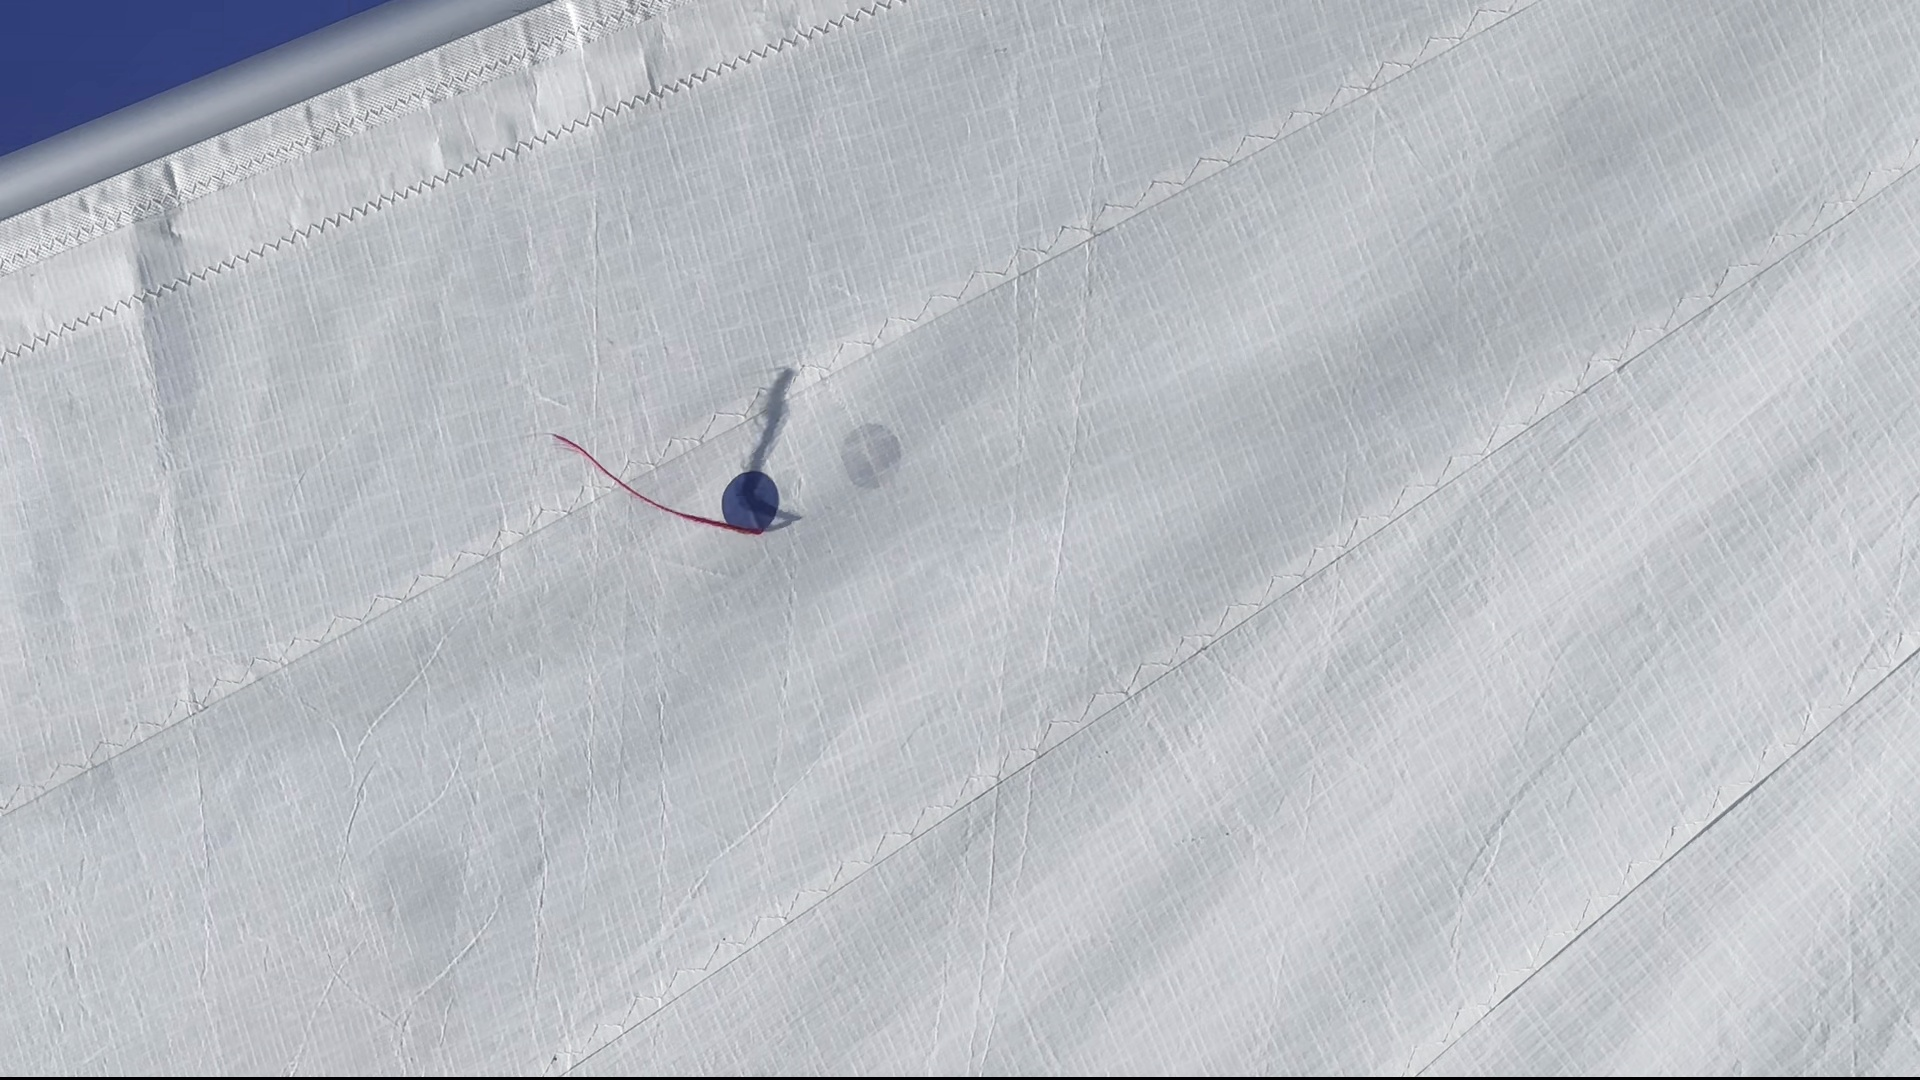pennon_detached: (518, 396, 802, 562)
